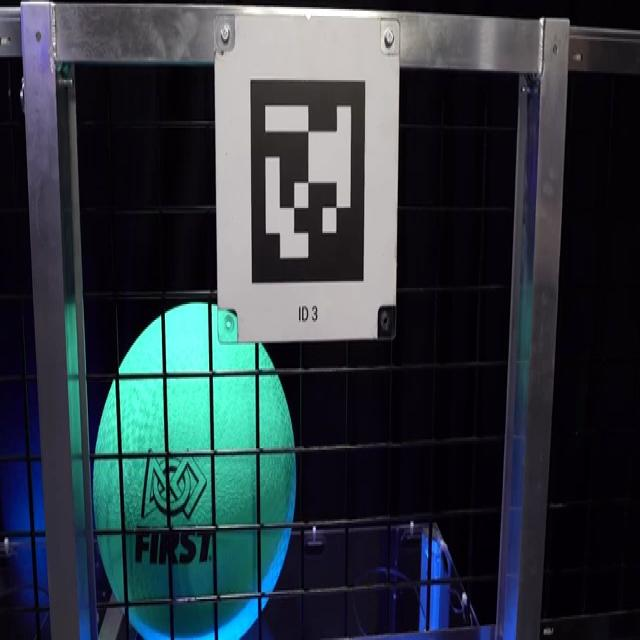Algae: (91, 298, 297, 636)
